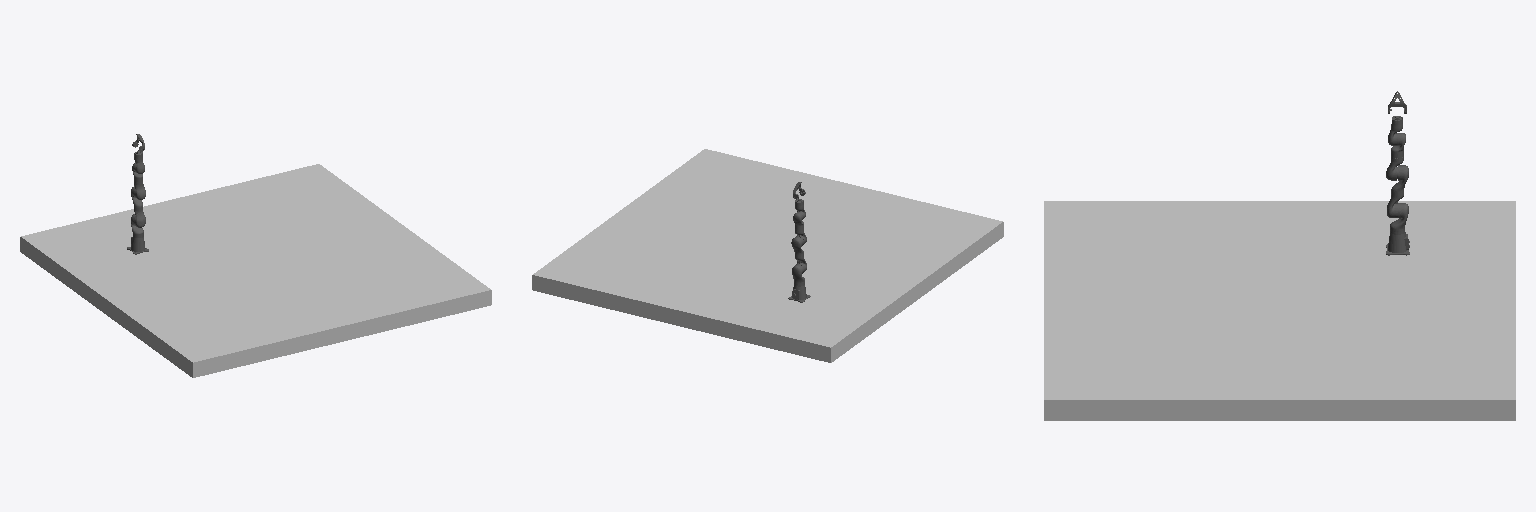
The robot description file, URDF, robot "arm_dyn":
<?xml version="1.0" ?>
<!-- =================================================================================== -->
<!-- |    This document was autogenerated by xacro from /home/hzw/RosFunctionExtension/ws_robot_arm/src/model/xacro/model/my_arm.xacro | -->
<!-- |    EDITING THIS FILE BY HAND IS NOT RECOMMENDED                                 | -->
<!-- =================================================================================== -->
<robot name="arm_dyn">
    <!-- Fixed block -->
    <link name="fixed_block_link">
        <!-- visualization -->
        <visual>
            <!-- appearance -->
            <geometry>
                <box size="2 2 0.1" />
                <!-- Import external models -->
            </geometry>
            <origin rpy="0 0 0" xyz="0 0 0" />
            <!-- Linkage offset -->
            <!-- texture of material -->
            <material name="">
                <color rgba="0.8 0.8 0.8 1" />
                <!-- colour -->
            </material>
        </visual>
        <!-- Collision matrix -->
        <collision>
            <!-- appearance -->
            <geometry>
                <box size="2 2 0.1" />
            </geometry>
            <origin rpy="0 0 0" xyz="0 0 0" />
        </collision>
        <inertial>
            <mass value="1000" />
            <inertia ixx="334.1666666666667" ixy="0" ixz="0" iyy="666.6666666666666" iyz="0" izz="334.1666666666667" />
            <origin xyz="0 0 0" rpy="0 0 0" />
        </inertial>
    </link>
    <gazebo reference="fixed_block_link">
        <material>Gazebo/Grey</material>
        <plugin name="gazebo_ros_control" filename="libgazebo_ros_control.so">
            <robotNamespace>/</robotNamespace>
        </plugin>
    </gazebo>
    <gazebo>
        <plugin filename="libgazebo_ros_control.so" name="gazebo_ros_control">
            <robotNamespace>/</robotNamespace>
        </plugin>
    </gazebo>
    <link name="base_link1">
        <visual>
            <geometry>
                <mesh filename="package://model/meshes/base_link.STL" />
            </geometry>
            <origin rpy="0 0 0" xyz="0 0 0" />
            <material name="">
                <color rgba="0.4 0.4 0.4 1" />
            </material>
        </visual>
        <collision>
            <geometry>
                <mesh filename="package://model/meshes/base_link.STL" />
            </geometry>
            <origin rpy="0 0 0" xyz="0 0 0" />
        </collision>
        <inertial>
            <origin rpy="0 0 0" xyz="2.0867E-05 0.0024582 0.036484" />
            <mass value="0.15198" />
            <inertia ixx="0.00015886" ixy="-9.6174E-09" ixz="-1.3936E-07" iyy="0.00016928" iyz="-2.6347E-06" izz="0.00018505" />
        </inertial>
    </link>
    <joint name="base_link1_joint" type="fixed">
        <parent link="fixed_block_link" />
        <child link="base_link1" />
        <origin rpy="0 0 0" xyz="-0.5 0.5 0.05" />
    </joint>
    <gazebo reference="base_link1">
        <material>Gazebo/Grey</material>
    </gazebo>
    <link name="link1_1">
        <visual>
            <origin rpy="0 0 0" xyz="0 0 0" />
            <geometry>
                <mesh filename="package://model/meshes/Link1.STL" />
            </geometry>
            <material name="">
                <color rgba="0.4 0.4 0.4 1" />
            </material>
        </visual>
        <collision>
            <origin rpy="0 0 0" xyz="0 0 0" />
            <geometry>
                <mesh filename="package://model/meshes/Link1.STL" />
            </geometry>
        </collision>
        <inertial>
            <origin rpy="0 0 0" xyz="-0.000150569497344115 0.0104209638029447 0.0714669079248176" />
            <mass value="0.051454447593722" />
            <inertia ixx="4.28042027375435E-05" ixy="2.49335097665302E-08" ixz="9.07504091461259E-08" iyy="5.10332068673238E-05" iyz="-7.62078054651406E-06" izz="2.92976443195118E-05" />
        </inertial>
    </link>
    <joint name="link1_1_joint" type="revolute">
        <origin rpy="0 0 0" xyz="0 0 0.10219" />
        <parent link="base_link1" />
        <child link="link1_1" />
        <axis xyz="0 0 1" />
        <limit effort="15" lower="-3.14159265358979" upper="3.14159265358979" velocity="1.047197551" />
        <dynamics friction="0.1" />
        <damping damping="0.1" friction="0.1" />
    </joint>
    <gazebo reference="link1_1">
        <material>Gazebo/Grey</material>
    </gazebo>
    <link name="link1_2">
        <visual>
            <geometry>
                <mesh filename="package://model/meshes/Link2.STL" />
            </geometry>
            <origin rpy="0 0 0" xyz="0 0 0" />
            <material name="">
                <color rgba="0.4 0.4 0.4 1" />
            </material>
        </visual>
        <collision>
            <origin rpy="0 0 0" xyz="0 0 0" />
            <geometry>
                <mesh filename="package://model/meshes/Link2.STL" />
            </geometry>
        </collision>
        <inertial>
            <origin rpy="0 0 0" xyz="0.0013842 0.12526 -0.00060222" />
            <mass value="0.072677" />
            <inertia ixx="0.00022891" ixy="-1.8752E-06" ixz="5.9632E-07" iyy="5.567E-05" iyz="5.7498E-05" izz="0.00022514" />
        </inertial>
    </link>
    <joint name="link1_2_joint" type="revolute">
        <origin rpy="1.5708 0 0" xyz="-0.00013672 0.0015197 0.083559" />
        <parent link="link1_1" />
        <child link="link1_2" />
        <axis xyz="0 0 -1" />
        <limit effort="15" lower="-3.14159265358979" upper="3.14159265358979" velocity="1.047197551" />
        <dynamics friction="0.1" />
        <damping damping="0.1" friction="0.1" />
    </joint>
    <gazebo reference="link1_2">
        <material>Gazebo/Grey</material>
    </gazebo>
    <link name="link1_3">
        <inertial>
            <origin rpy="0 0 0" xyz="-4.4371E-05 0.052245 0.010403" />
            <mass value="0.037334" />
            <inertia ixx="3.0107E-05" ixy="-8.289E-09" ixz="3.0001E-10" iyy="2.1927E-05" iyz="5.725E-06" izz="3.0817E-05" />
        </inertial>
        <visual>
            <origin rpy="0 0 0" xyz="0 0 0" />
            <geometry>
                <mesh filename="package://model/meshes/Link3.STL" />
            </geometry>
            <material name="">
                <color rgba="0.4 0.4 0.4 1" />
            </material>
        </visual>
        <collision>
            <origin rpy="0 0 0" xyz="0 0 0" />
            <geometry>
                <mesh filename="package://model/meshes/Link3.STL" />
            </geometry>
        </collision>
    </link>
    <joint name="link1_3_joint" type="revolute">
        <origin rpy="0 0 0" xyz="0.0020288 0.17799 0.00098033" />
        <parent link="link1_2" />
        <child link="link1_3" />
        <axis xyz="0 0 -1" />
        <limit effort="15" lower="-3.14159265358979" upper="3.14159265358979" velocity="1.047197551" />
        <dynamics friction="0.1" />
        <damping damping="0.1" friction="0.1" />
    </joint>
    <gazebo reference="link1_3">
        <material>Gazebo/Grey</material>
    </gazebo>
    <link name="link1_4">
        <visual>
            <origin rpy="0 0 0" xyz="0 0 0" />
            <geometry>
                <mesh filename="package://model/meshes/Link4.STL" />
            </geometry>
            <material name="">
                <color rgba="0.4 0.4 0.4 1" />
            </material>
        </visual>
        <collision>
            <origin rpy="0 0 0" xyz="0 0 0" />
            <geometry>
                <mesh filename="package://model/meshes/Link4.STL" />
            </geometry>
        </collision>
        <inertial>
            <origin rpy="0 0 0" xyz="-5.2487E-05 0.0067451 0.061697" />
            <mass value="0.033849" />
            <inertia ixx="2.198E-05" ixy="-2.6958E-10" ixz="-2.1485E-09" iyy="2.4927E-05" iyz="-4.3969E-06" izz="1.4623E-05" />
        </inertial>
    </link>
    <joint name="link1_4_joint" type="revolute">
        <parent link="link1_3" />
        <child link="link1_4" />
        <origin rpy="-1.5708 0 0" xyz="0 0.0834 0.0025888" />
        <axis xyz="0 0 -1" />
        <limit effort="4" lower="-3.14159265358979" upper="3.14159265358979" velocity="1.047197551" />
        <dynamics friction="0.1" />
        <damping damping="0.1" friction="0.1" />
    </joint>
    <gazebo reference="link1_4">
        <material>Gazebo/Grey</material>
    </gazebo>
    <link name="link1_5">
        <visual>
            <origin rpy="0 0 0" xyz="0 0 0" />
            <geometry>
                <mesh filename="package://model/meshes/Link5.STL" />
            </geometry>
            <material name="">
                <color rgba="0.4 0.4 0.4 1" />
            </material>
        </visual>
        <collision>
            <origin rpy="0 0 0" xyz="0 0 0" />
            <geometry>
                <mesh filename="package://model/meshes/Link5.STL" />
            </geometry>
        </collision>
        <inertial>
            <origin rpy="0 0 0" xyz="1.1017E-06 0.054029 0.0075175" />
            <mass value="0.02592" />
            <inertia ixx="2.8761E-05" ixy="2.8281E-09" ixz="-9.6456E-10" iyy="1.2811E-05" iyz="5.6623E-06" izz="2.8429E-05" />
        </inertial>
    </link>
    <joint name="link1_5_joint" type="revolute">
        <origin rpy="1.5708 0 0" xyz="0 6.188E-05 0.07454" />
        <parent link="link1_4" />
        <child link="link1_5" />
        <axis xyz="0 0 -1" />
        <limit effort="4" lower="-3.14159265358979" upper="3.14159265358979" velocity="1.047197551" />
        <dynamics damping="0.1" friction="0.1" />
    </joint>
    <gazebo reference="link1_5">
        <material>Gazebo/Grey</material>
    </gazebo>
    <link name="link1_6">
        <inertial>
            <origin rpy="0 0 0" xyz="-0.0010295 0.0096747 0.03161" />
            <mass value="0.10313" />
            <inertia ixx="8.4264E-05" ixy="2.616E-07" ixz="4.258E-06" iyy="9.4566E-05" iyz="-1.5572E-05" izz="6.3131E-05" />
        </inertial>
        <visual>
            <origin rpy="0 0 0" xyz="0 0 0" />
            <geometry>
                <mesh filename="package://model/meshes/Link6.STL" />
            </geometry>
            <material name="">
                <color rgba="0.4 0.4 0.4 1" />
            </material>
        </visual>
        <collision>
            <origin rpy="0 0 0" xyz="0 0 0" />
            <geometry>
                <mesh filename="package://model/meshes/Link6.STL" />
            </geometry>
        </collision>
    </link>
    <joint name="link1_6_joint" type="revolute">
        <origin rpy="1.5708 1.5499 3.1391" xyz="0.00025051 0.10055 0" />
        <parent link="link1_5" />
        <child link="link1_6" />
        <axis xyz="0 0 -1" />
        <limit effort="5" lower="-3.14" upper="3.14" velocity="1" />
        <dynamics damping="0.1" friction="0.1" />
    </joint>
    <gazebo reference="link1_6">
        <material>Gazebo/Grey</material>
    </gazebo>
    <link name="link1_7">
        <inertial>
            <origin rpy="0 0 0" xyz="-0.00799 0.039452 -0.014945" />
            <mass value="0.039237" />
            <inertia ixx="3.966E-05" ixy="8.1331E-07" ixz="-4.2778E-11" iyy="2.4954E-05" iyz="-4.2913E-10" izz="2.0954E-05" />
        </inertial>
        <visual>
            <origin rpy="0 0 0" xyz="0 0 0" />
            <geometry>
                <mesh filename="package://model/meshes/Link7.STL" />
            </geometry>
            <material name="">
                <color rgba="0.4 0.4 0.4 1" />
            </material>
        </visual>
        <collision>
            <origin rpy="0 0 0" xyz="0 0 0" />
            <geometry>
                <mesh filename="package://model/meshes/Link7.STL" />
            </geometry>
        </collision>
    </link>
    <joint name="link1_7_joint" type="revolute">
        <origin rpy="1.5708 0.0073902 1.5408" xyz="0.015818 -0.00047499 0.036" />
        <parent link="link1_6" />
        <child link="link1_7" />
        <axis xyz="0 0 -1" />
        <limit effort="5" lower="-1.5" upper="0" velocity="1" />
    </joint>
    <gazebo reference="link1_7">
        <material>Gazebo/Grey</material>
    </gazebo>
    <transmission name="link1_1_joint_trans">
        <type>transmission_interface/SimpleTransmission</type>
        <joint name="link1_1_joint">
            <hardwareInterface>hardware_interface/EffortJointInterface</hardwareInterface>
        </joint>
        <actuator name="foo_motor">
            <mechanicalReduction>1</mechanicalReduction>
            <hardwareInterface>hardware_interface/EffortJointInterface</hardwareInterface>
        </actuator>
    </transmission>
    <transmission name="link1_2_joint_trans">
        <type>transmission_interface/SimpleTransmission</type>
        <joint name="link1_2_joint">
            <hardwareInterface>hardware_interface/EffortJointInterface</hardwareInterface>
        </joint>
        <actuator name="foo_motor">
            <mechanicalReduction>1</mechanicalReduction>
            <hardwareInterface>hardware_interface/EffortJointInterface</hardwareInterface>
        </actuator>
    </transmission>
    <transmission name="link1_3_joint_trans">
        <type>transmission_interface/SimpleTransmission</type>
        <joint name="link1_3_joint">
            <hardwareInterface>hardware_interface/EffortJointInterface</hardwareInterface>
        </joint>
        <actuator name="foo_motor">
            <mechanicalReduction>1</mechanicalReduction>
            <hardwareInterface>hardware_interface/EffortJointInterface</hardwareInterface>
        </actuator>
    </transmission>
    <transmission name="link1_4_joint_trans">
        <type>transmission_interface/SimpleTransmission</type>
        <joint name="link1_4_joint">
            <hardwareInterface>hardware_interface/EffortJointInterface</hardwareInterface>
        </joint>
        <actuator name="foo_motor">
            <mechanicalReduction>1</mechanicalReduction>
            <hardwareInterface>hardware_interface/EffortJointInterface</hardwareInterface>
        </actuator>
    </transmission>
    <transmission name="link1_5_joint_trans">
        <type>transmission_interface/SimpleTransmission</type>
        <joint name="link1_5_joint">
            <hardwareInterface>hardware_interface/EffortJointInterface</hardwareInterface>
        </joint>
        <actuator name="foo_motor">
            <mechanicalReduction>1</mechanicalReduction>
            <hardwareInterface>hardware_interface/EffortJointInterface</hardwareInterface>
        </actuator>
    </transmission>
    <transmission name="link1_6_joint_trans">
        <type>transmission_interface/SimpleTransmission</type>
        <joint name="link1_6_joint">
            <hardwareInterface>hardware_interface/EffortJointInterface</hardwareInterface>
        </joint>
        <actuator name="foo_motor">
            <mechanicalReduction>1</mechanicalReduction>
            <hardwareInterface>hardware_interface/EffortJointInterface</hardwareInterface>
        </actuator>
    </transmission>
    <transmission name="link1_7_joint_trans">
        <type>transmission_interface/SimpleTransmission</type>
        <joint name="link1_7_joint">
            <hardwareInterface>hardware_interface/EffortJointInterface</hardwareInterface>
        </joint>
        <actuator name="foo_motor">
            <mechanicalReduction>1</mechanicalReduction>
            <hardwareInterface>hardware_interface/EffortJointInterface</hardwareInterface>
        </actuator>
    </transmission>
    <!-- <xacro:Robot_arm_create arm_number="2" pos_l="-${fixed_block_length/2-0.5}" pos_w="-${fixed_block_wide/2-0.5}" /> -->
</robot>

--- What the picture shows (computed from the rendered views, not written in the file) ---
Views: 3 orthographic renders of the robot side by side, from view 1: azimuth 30°, elevation 25°; view 2: azimuth 150°, elevation 25°; view 3: azimuth 270°, elevation 25°.
Robot: arm_dyn — 9 links, 8 joints (7 revolute, 1 fixed); root link fixed_block_link; default pose: every joint at zero.
Visible links, largest first — view 1: fixed_block_link; view 2: fixed_block_link; view 3: fixed_block_link, link1_2.
Boxes of the visible links, x1,y1,x2,y2 form: fixed_block_link: (20, 164, 491, 377); fixed_block_link: (532, 149, 1003, 362); fixed_block_link: (1044, 201, 1515, 420); link1_2: (1387, 165, 1408, 217).
Bounding box of the posed robot: 2 × 2 × 0.8434 m (x, y, z).
7 mesh visuals loaded from 8 distinct referenced files (7 binary STL); not drawn: 1 (reference not matched to a file when rendering).
